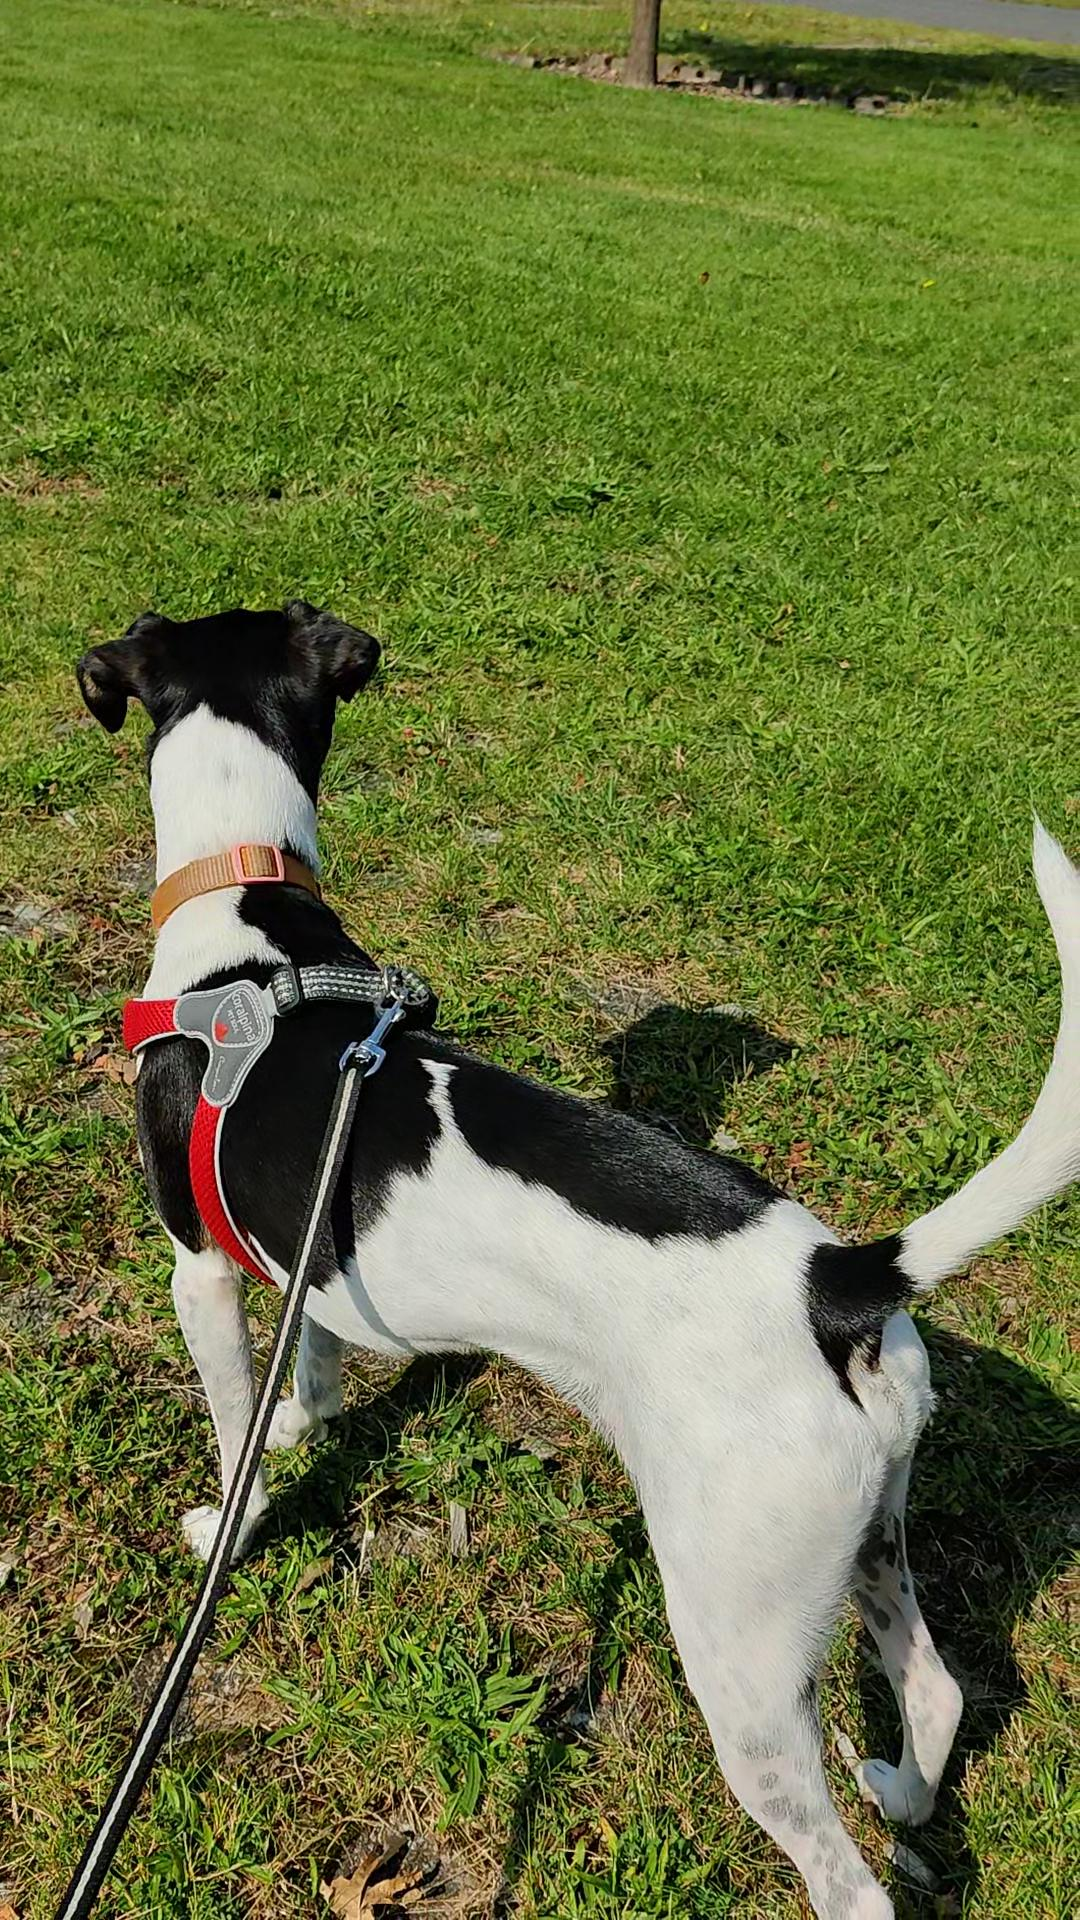Dog: (65, 588, 1079, 1919)
